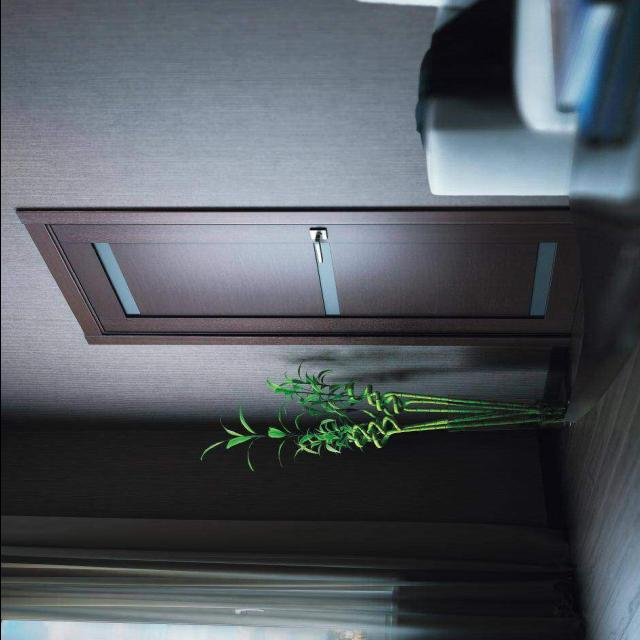close: (46, 224, 576, 338)
